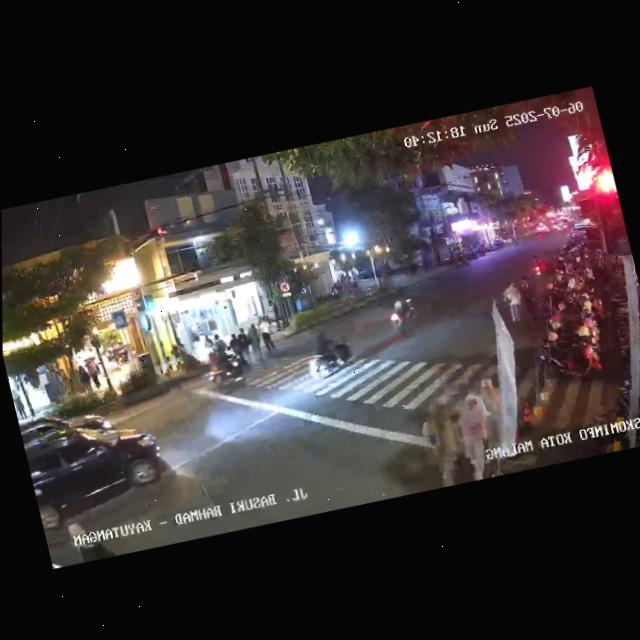car: (20, 398, 178, 538), (569, 215, 600, 239)
motorcycle: (302, 324, 357, 383), (199, 338, 247, 393), (385, 292, 422, 337)
person: (459, 382, 512, 480), (426, 402, 477, 486), (516, 272, 545, 323), (499, 278, 526, 328), (244, 323, 264, 364), (256, 319, 277, 357), (234, 326, 254, 365), (225, 332, 245, 369), (10, 385, 29, 421), (75, 360, 93, 394), (86, 356, 103, 391), (211, 331, 228, 352), (201, 329, 215, 352)
